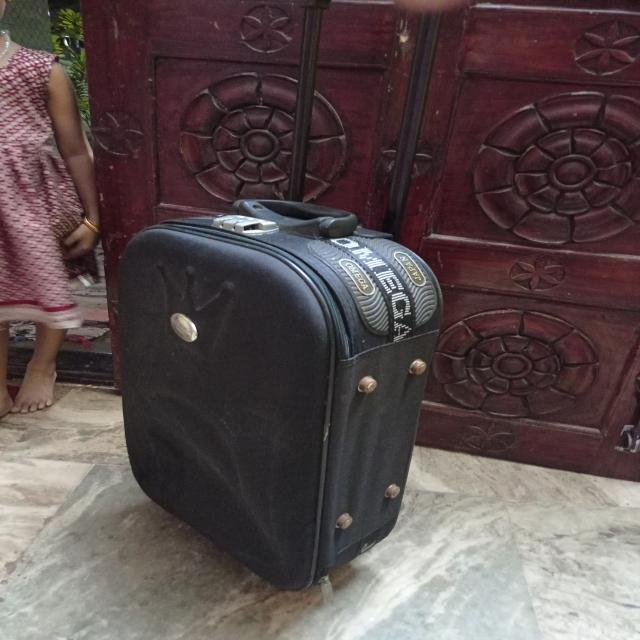suitcaserotation: (110, 1, 448, 594)
